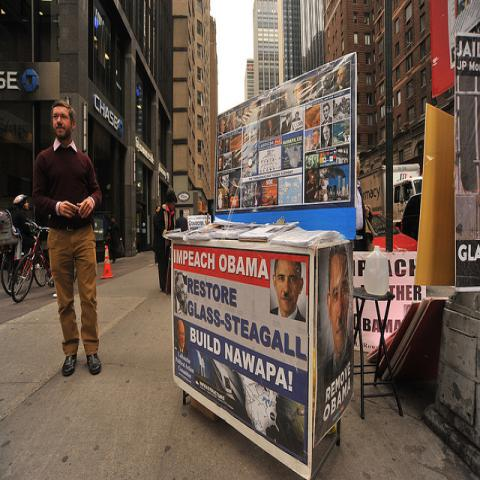car: (370, 211, 418, 253), (401, 193, 422, 242)
truck: (360, 164, 422, 232)
